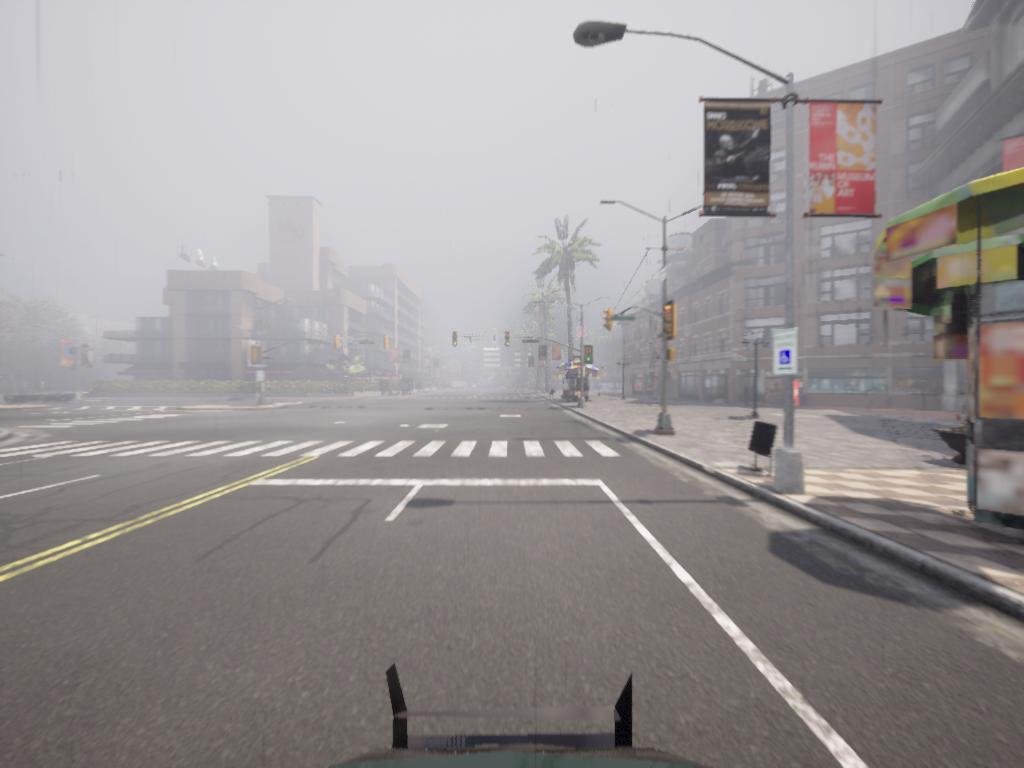traffic_light: (664, 304, 677, 340), (605, 310, 616, 332), (584, 346, 594, 367), (451, 331, 459, 350), (384, 335, 390, 351), (506, 331, 511, 349), (336, 337, 342, 351)
